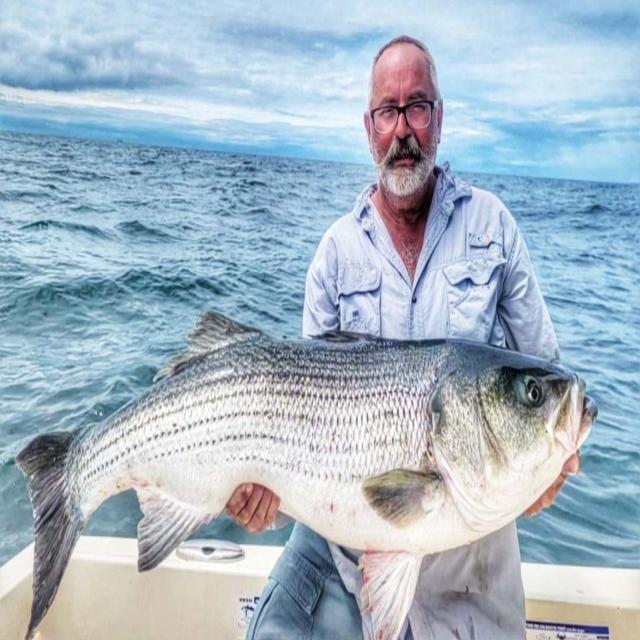Bass - Striped: (17, 312, 596, 638)
